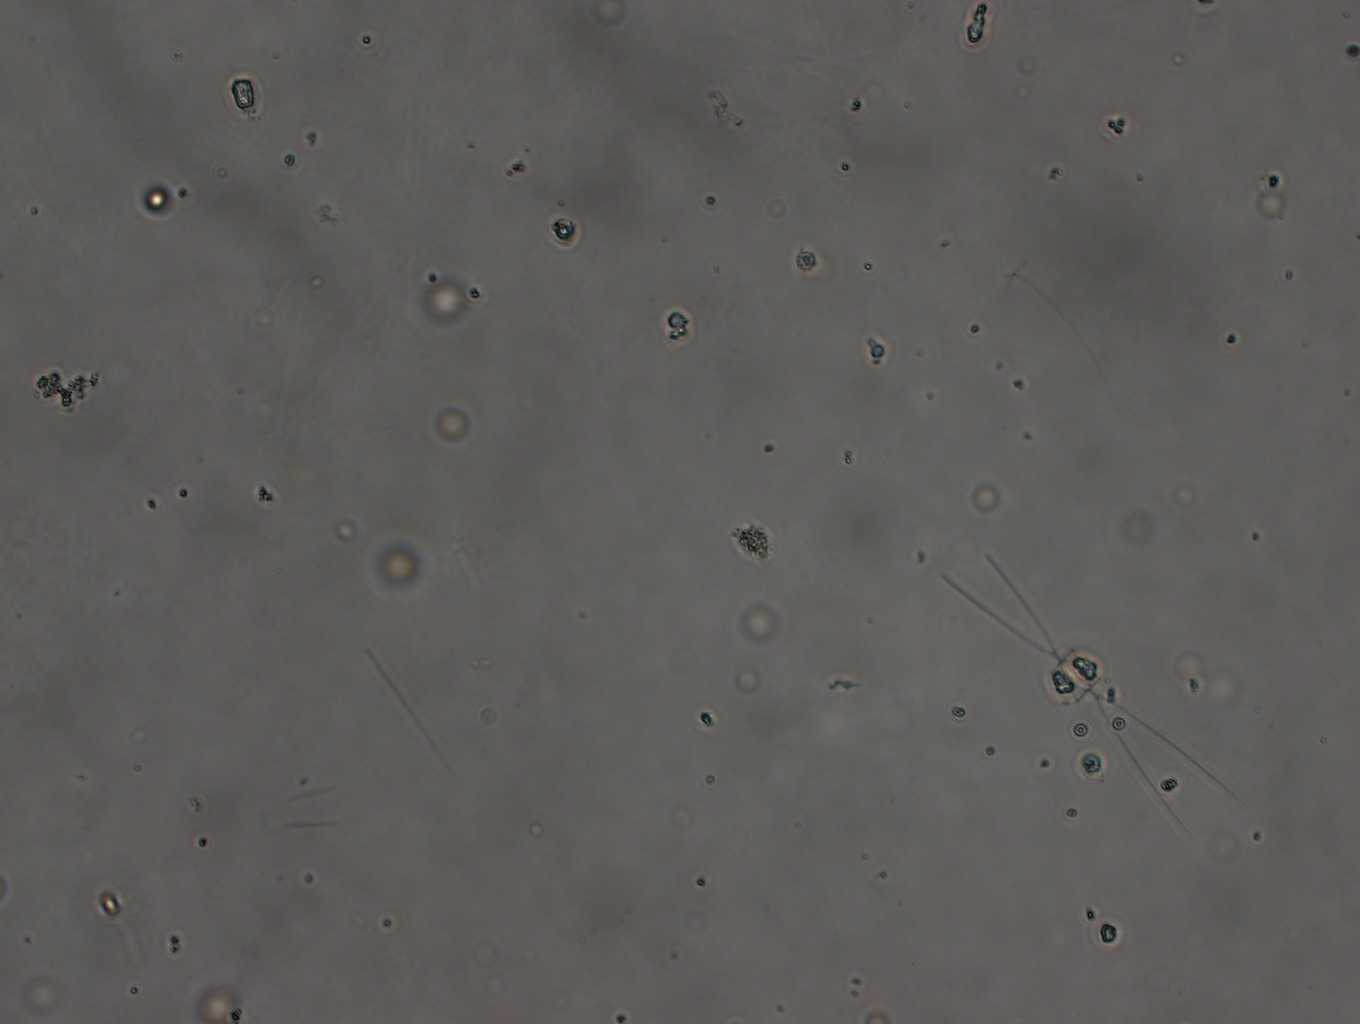chaetoceros: (939, 553, 1244, 844)
